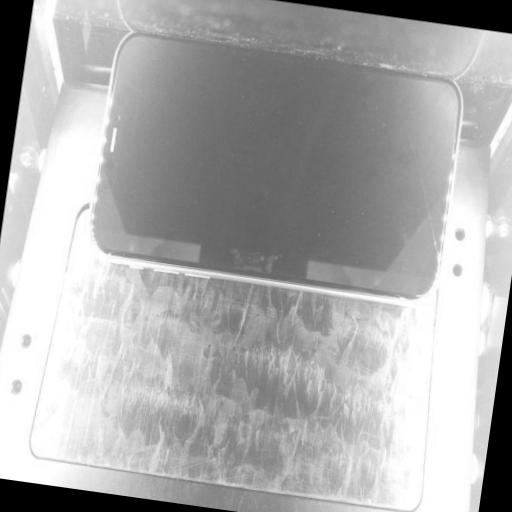phone: (87, 24, 472, 299)
